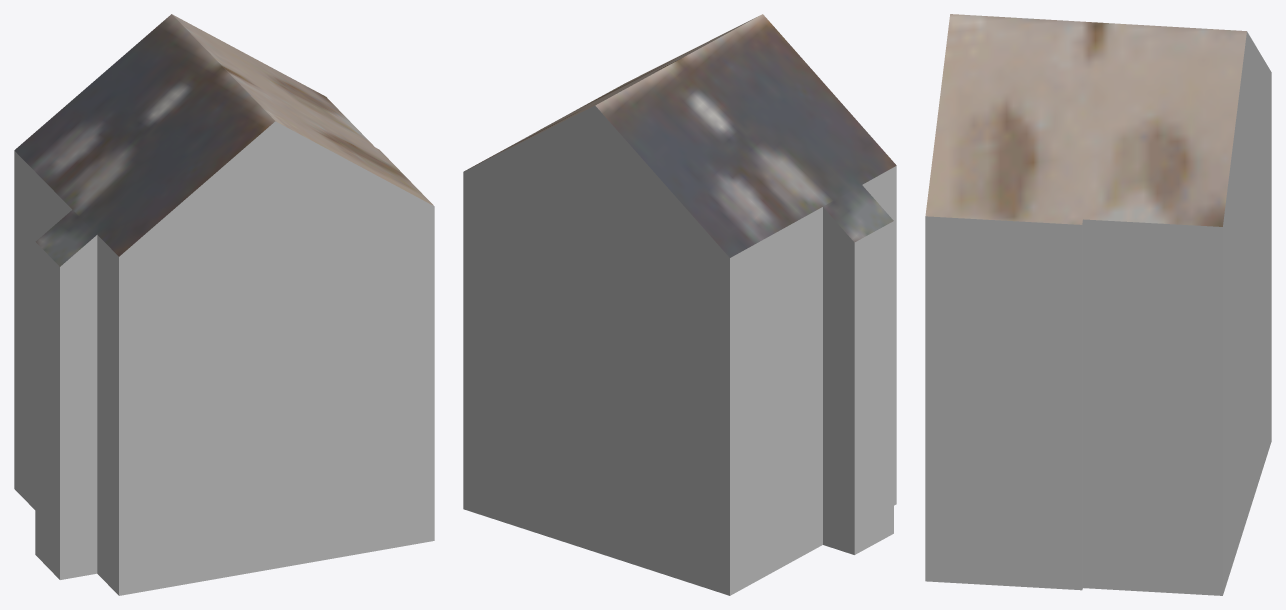
The model's file is DEBW_0010007Tx4T.gltf.
3 renders of one model, left to right at view 1: azimuth 30°, elevation 25°; view 2: azimuth 150°, elevation 25°; view 3: azimuth 270°, elevation 25°, orthographic. The views are drawn at different scales.
Parts seen in each view (by area): view 1: Z_UP; view 2: Z_UP; view 3: Z_UP.
Boxes of the visible parts, <box> form: Z_UP: <box>14,14,434,595</box>; Z_UP: <box>463,14,896,595</box>; Z_UP: <box>925,14,1271,595</box>.
Size of the model in its own units: 13.01 by 15.95 by 10.24.
Materials: 2 (1 with a texture image).
